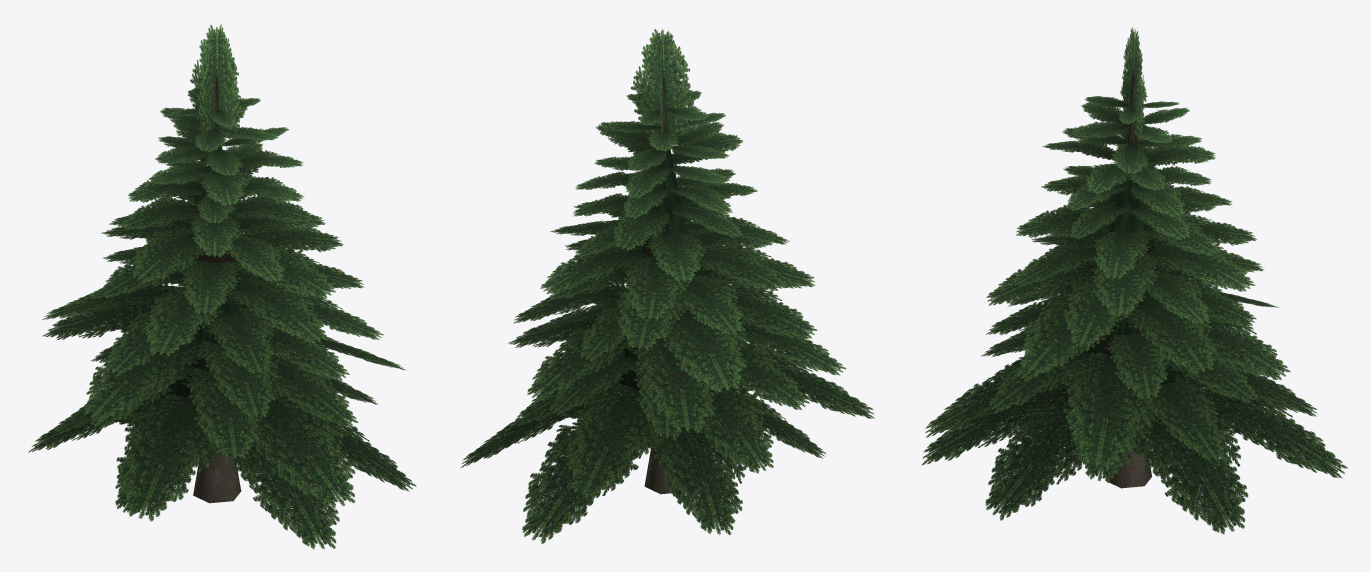
File: pine1.glb
The picture shows the model from 3 angles, left to right: view 1: azimuth 30°, elevation 25°; view 2: azimuth 150°, elevation 25°; view 3: azimuth 270°, elevation 25°; orthographic projection. The views are drawn at different scales.
Visible parts, largest first — view 1: Tree; view 2: Tree; view 3: Tree.
Part boxes in pixels (x1,y1,x2,y2): Tree: (28,24,416,549); Tree: (460,29,874,543); Tree: (921,27,1347,534).
Size of the model in its own units: 8.79 by 10.4 by 9.21.
Materials: 2 (2 with a texture image).
